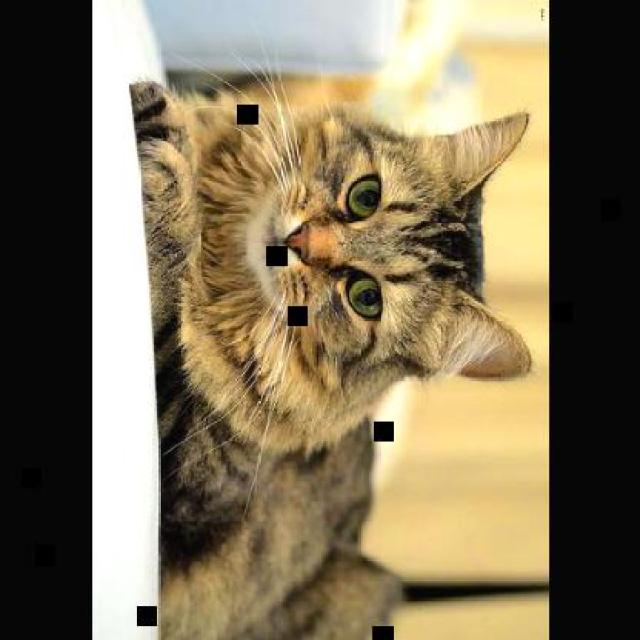unauthorized: (128, 43, 532, 639)
